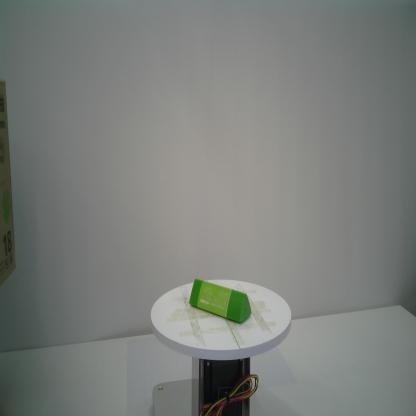Stationery: (186, 275, 254, 325)
